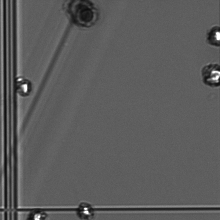Dead Cell: (69, 1, 100, 29)
Living Cell: (202, 60, 219, 87), (14, 78, 34, 95), (75, 202, 96, 218)
